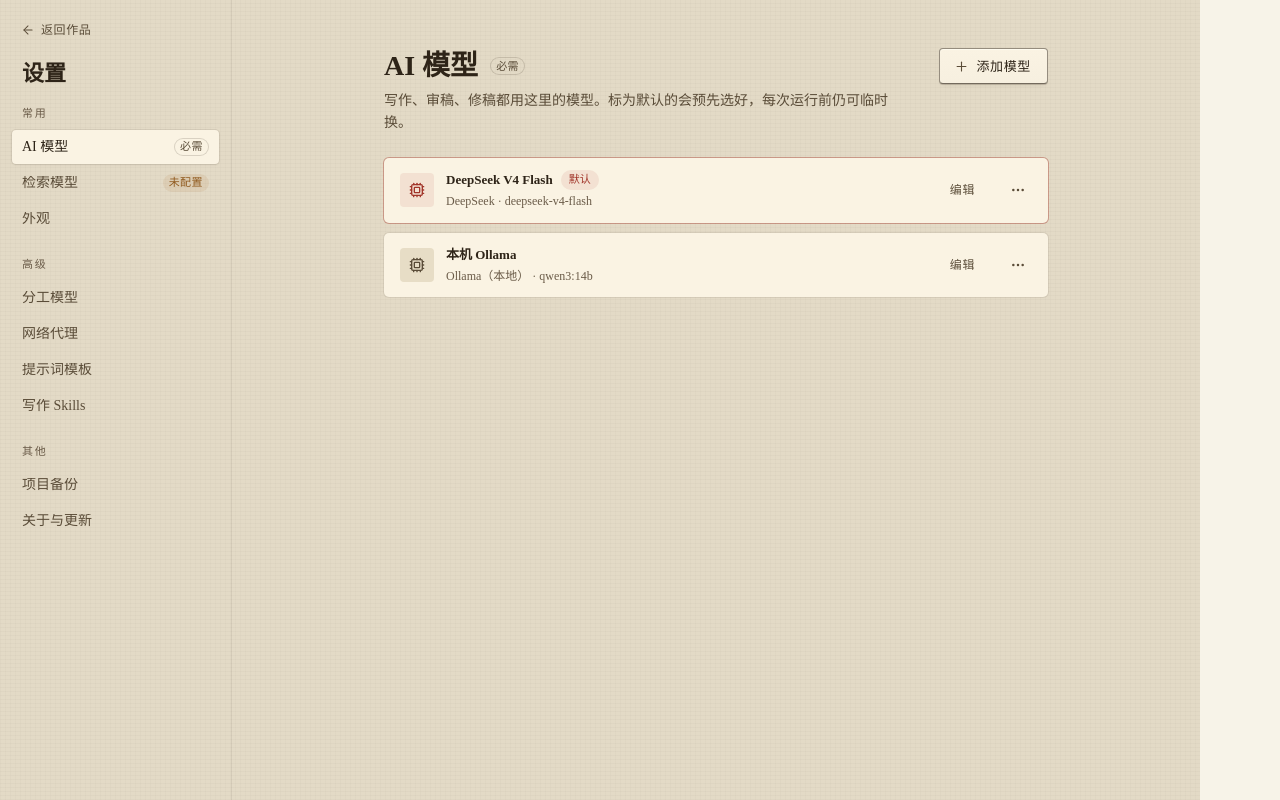
Test: 设置页 › 确认删除后、删完之前点了编辑：删完表单关掉，列表里没有它，不能再存回来
Later steps or results of the test are not shown.
Step 1. Click the button named "「本机 Ollama」更多操作" → click(1018, 265), box [1000, 247, 1036, 283]
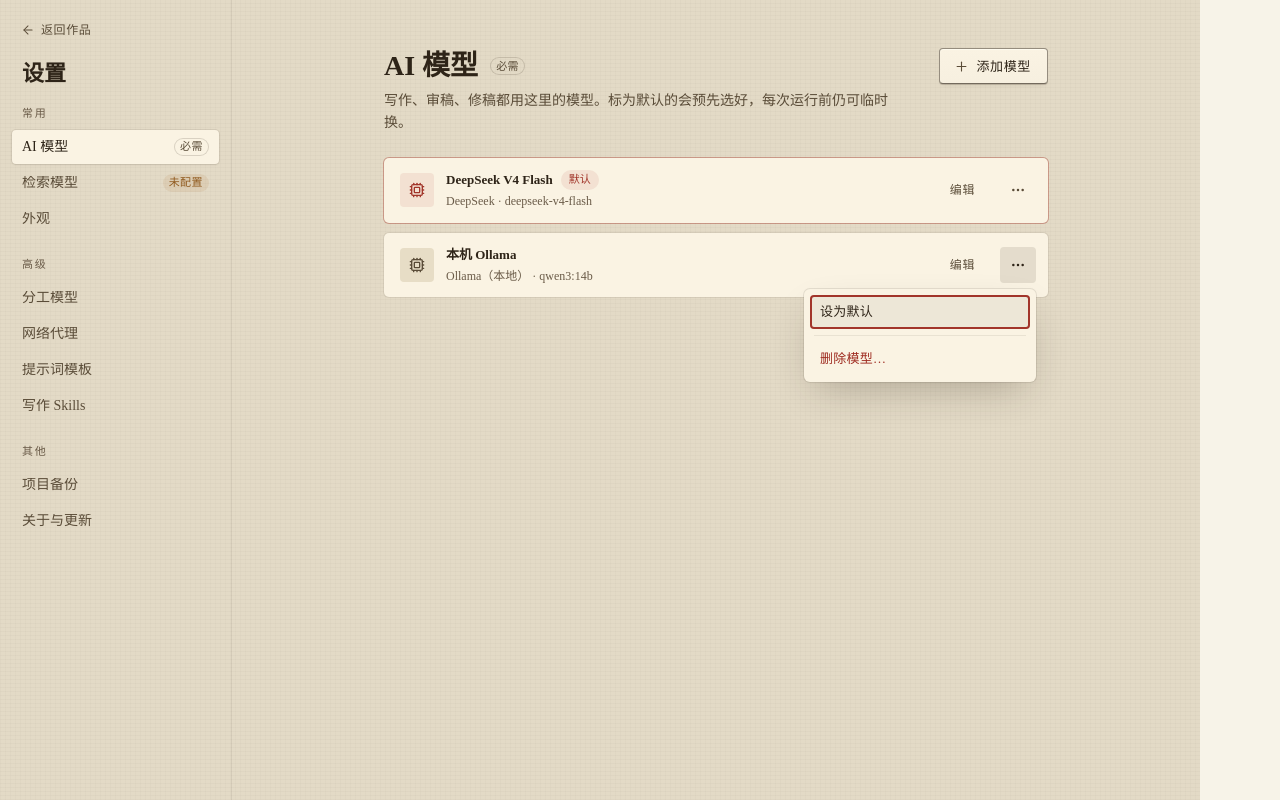
Now the menu item "删除模型…" is shown
Step 2. Click the menu item "删除模型…" → click(920, 359), box [810, 342, 1030, 376]
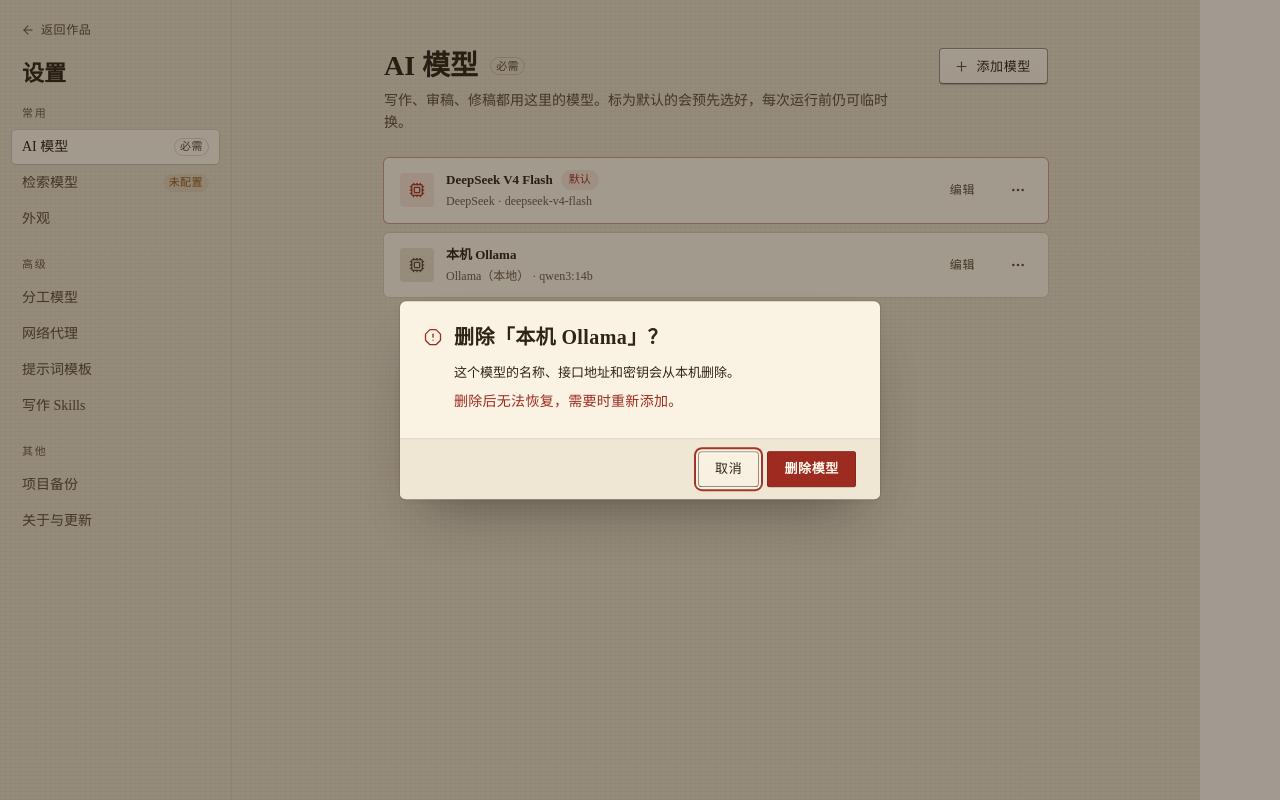
Now the button "删除模型" is shown, box [767, 451, 856, 487]
